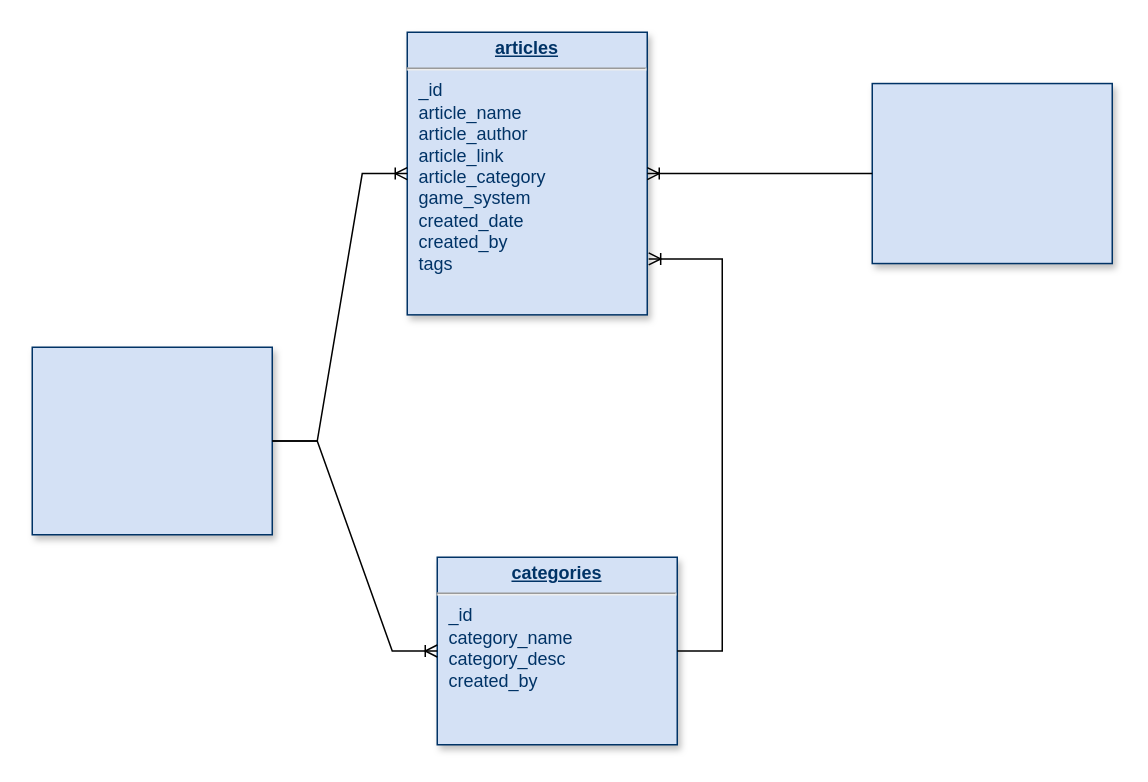
This 1148x782 diagram has some shape labels left out. The centre of each missing label's shape, as x and y in pixels:
game_systems _id system_name: point (993, 175)
users _id username password user_privileges: point (153, 442)
